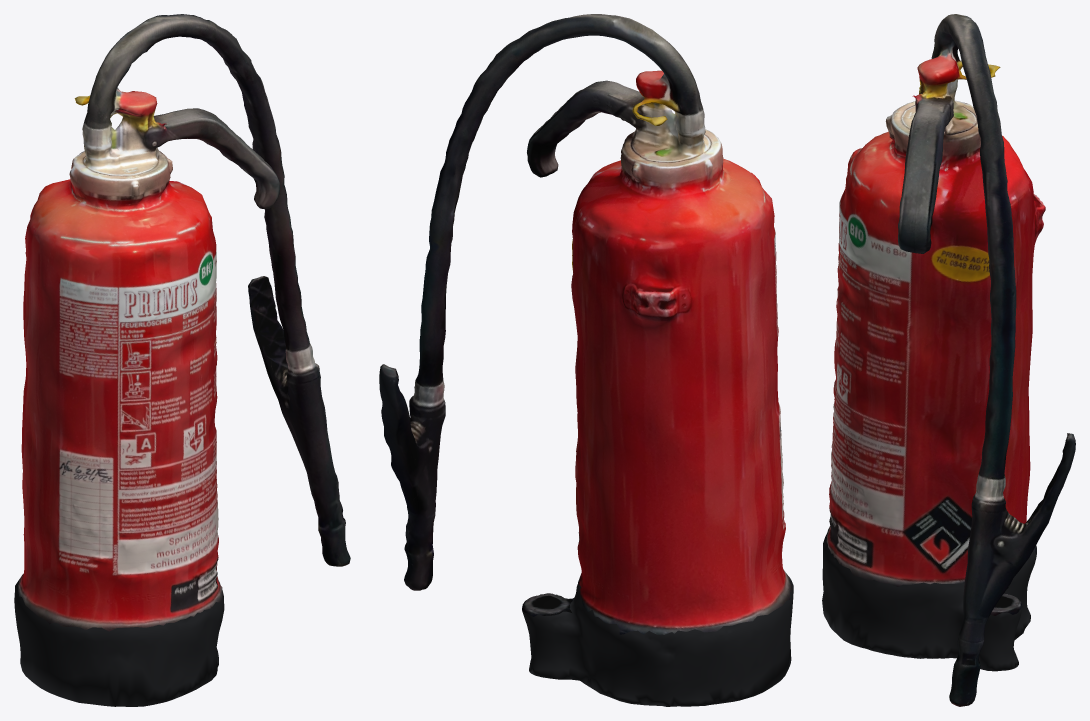
Rendered from feuerloescher.glb.
The picture shows the model from 3 angles, left to right: view 1: azimuth 30°, elevation 25°; view 2: azimuth 150°, elevation 25°; view 3: azimuth 270°, elevation 25°; orthographic projection. The views are drawn at different scales.
Parts seen in each view (by area): view 1: ObjectCapture; view 2: ObjectCapture; view 3: ObjectCapture.
Boxes of the visible parts, <box> form: ObjectCapture: <box>14,14,350,706</box>; ObjectCapture: <box>379,14,793,706</box>; ObjectCapture: <box>822,14,1075,706</box>.
Size of the model in its own units: 0.3176 by 0.5575 by 0.2056.
2 materials, 1 textured.
